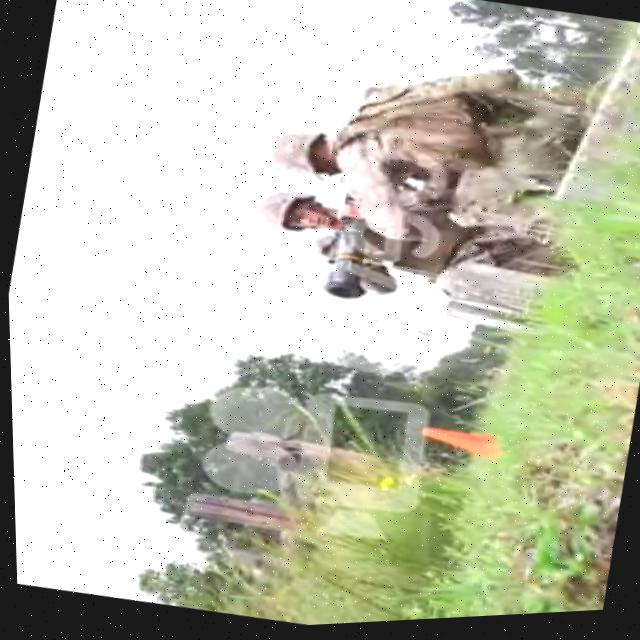rocket: (314, 212, 378, 304)
